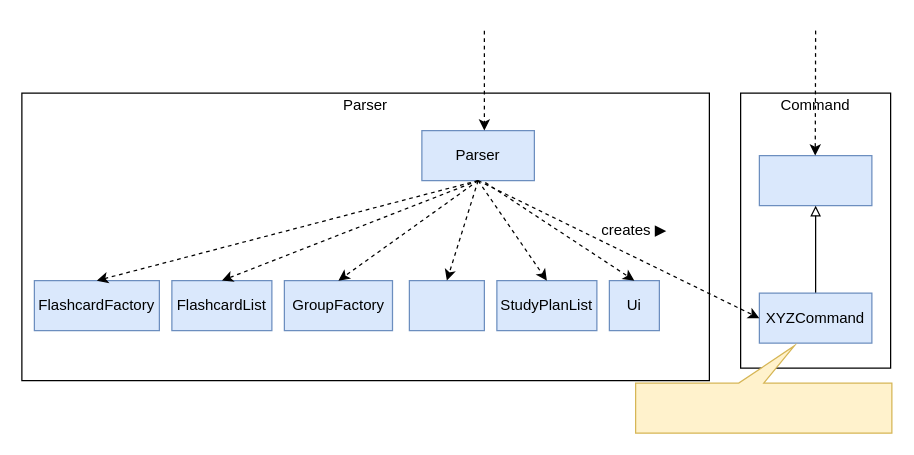
This 914x455 diagram has some shape labels left out. Here are the shapes that lost their labels. From the top down, the box of each, then its label:
(758, 154, 872, 206): {abstract} Command
(408, 279, 484, 331): GroupList
(634, 344, 892, 433): XYZCommand = DeleteCommand, PriorityCommand, etc.
